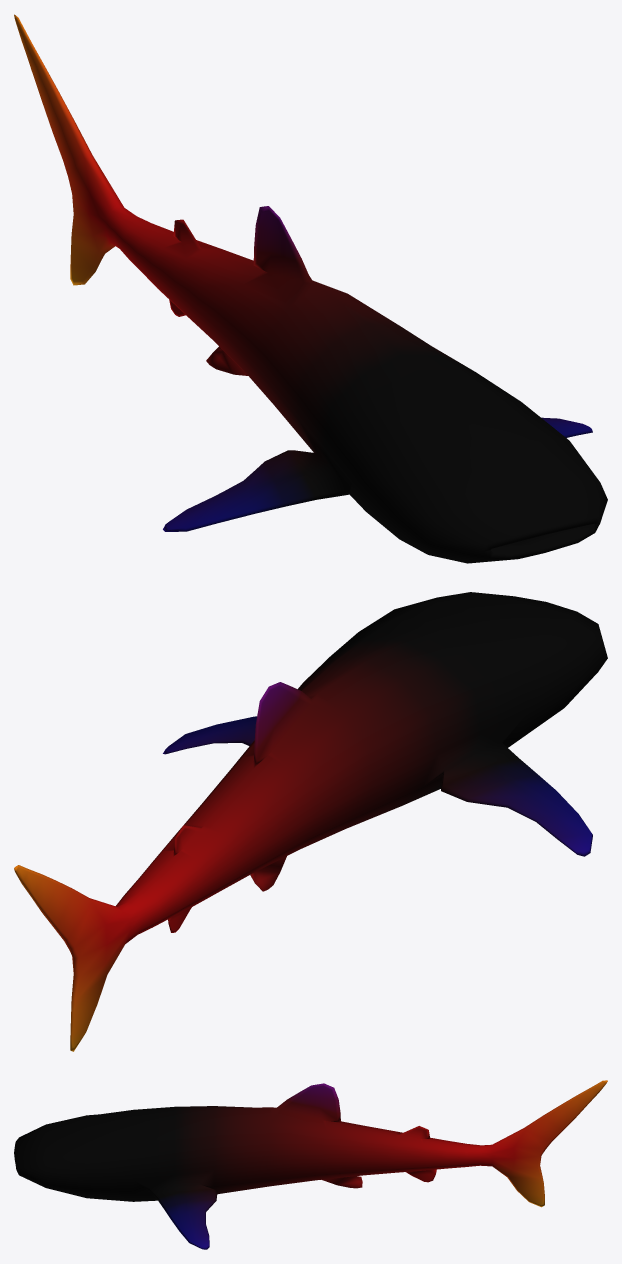
3 views of the same model, one above another, from view 1: azimuth 30°, elevation 25°; view 2: azimuth 150°, elevation 25°; view 3: azimuth 270°, elevation 25° (orthographic). The views are drawn at different scales.
Parts seen in each view (by area): view 1: whale shark final; view 2: whale shark final; view 3: whale shark final.
Part boxes in pixels (<box>): whale shark final: <box>14,14,607,563</box>; whale shark final: <box>14,592,607,1051</box>; whale shark final: <box>14,1080,607,1249</box>.
Bounding box in the file's own units: 2.38 × 1.22 × 5.17.
